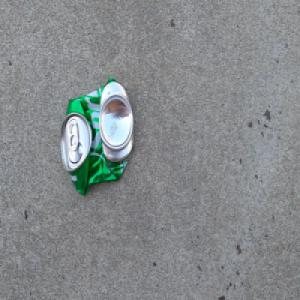SodaCan: (59, 76, 134, 197)
